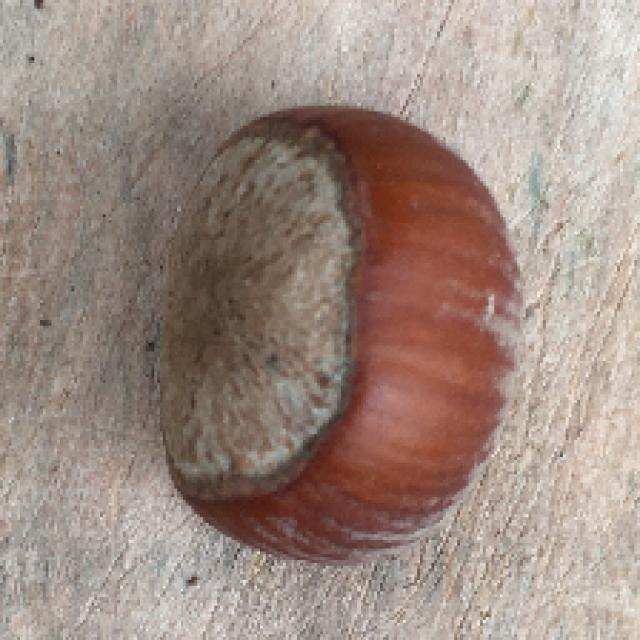qualityHazelnut: (138, 97, 534, 571)
